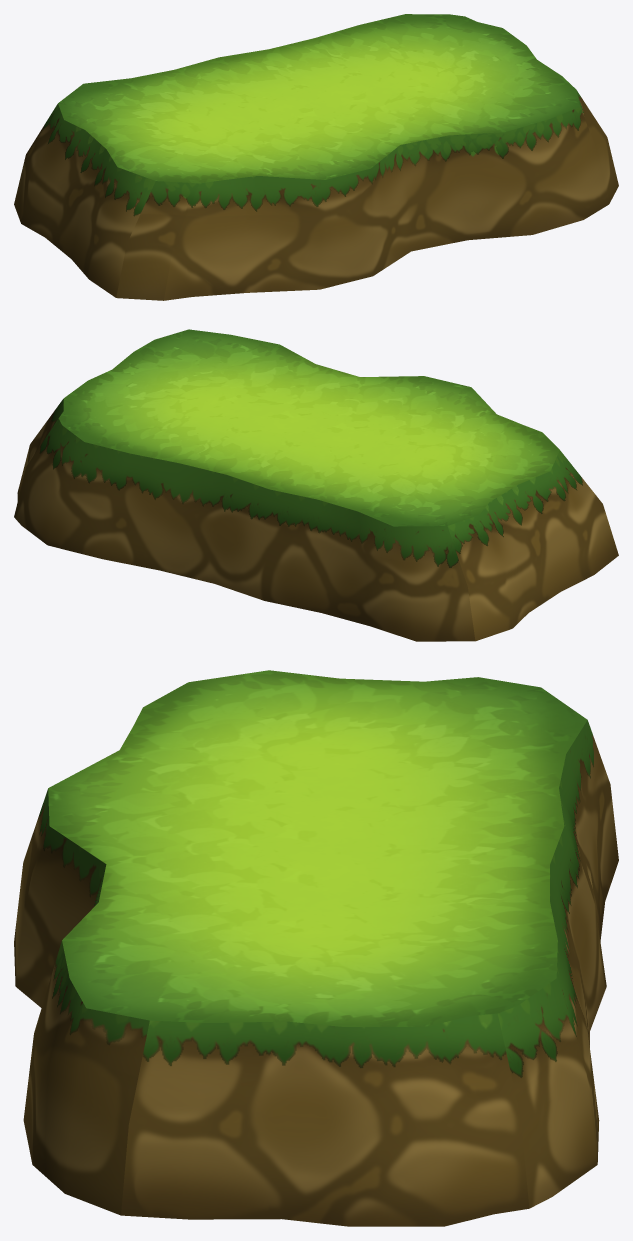
Rendered from Ground0.FBX.
3 renders of one model, top to bottom at view 1: azimuth 30°, elevation 25°; view 2: azimuth 150°, elevation 25°; view 3: azimuth 270°, elevation 25°, orthographic. The views are drawn at different scales.
Visible parts, largest first — view 1: Box081; view 2: Box081; view 3: Box081.
Part boxes in pixels (x1,y1,x2,y2): Box081: (14,14,618,300); Box081: (14,329,618,641); Box081: (14,670,618,1226).
Bounding box in the file's own units: 348 × 64.57 × 212.
Materials: 1 (1 with a texture image).
